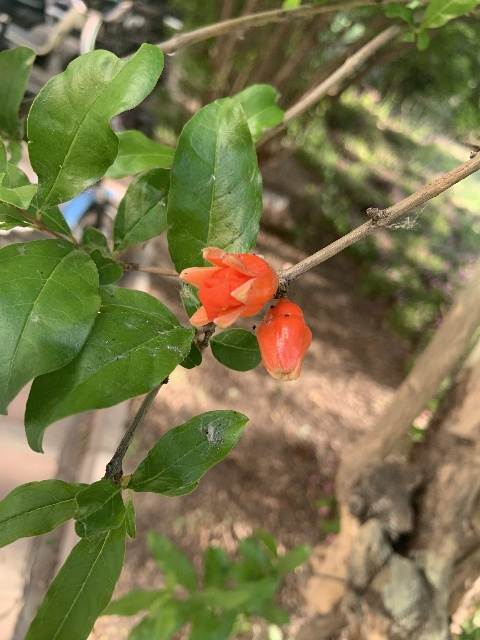bud: (256, 298, 312, 381)
flower: (180, 247, 277, 330)
